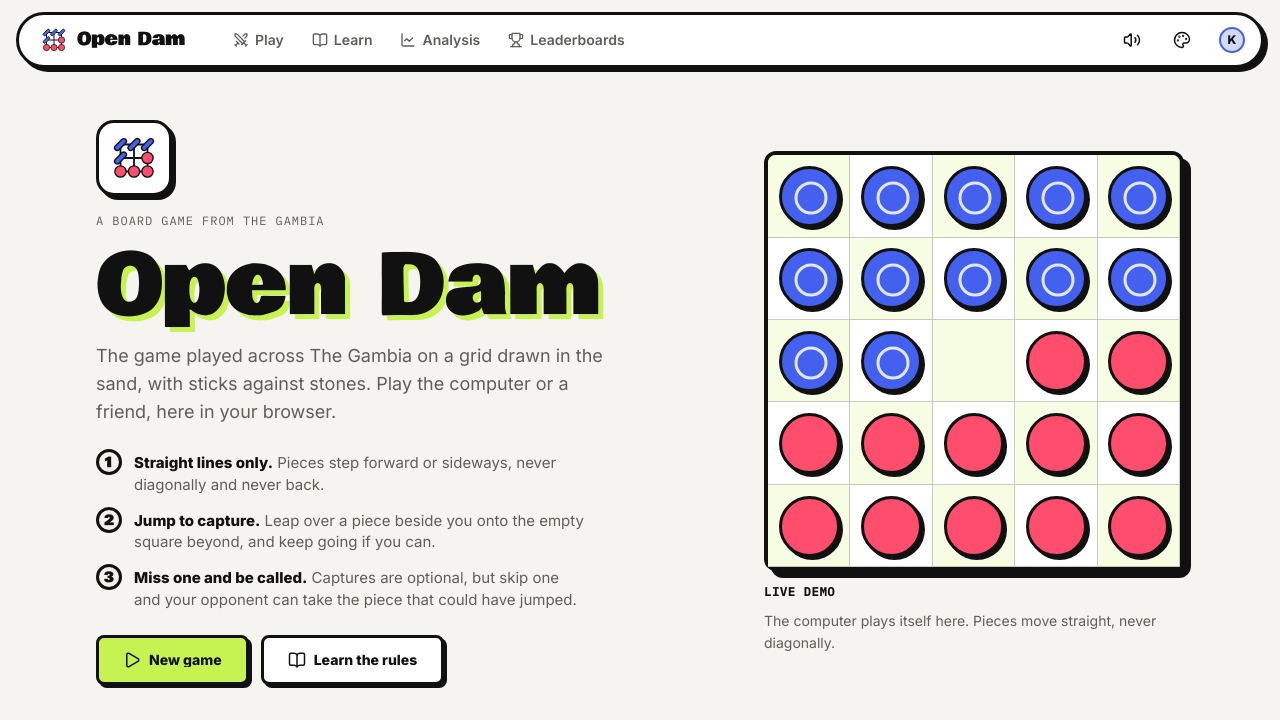
signing up and in › signing out from the account menu takes the account’s games and puzzles off the device
The image size is (1280, 720).
Click the button named "Account: Kylar" at (1232, 40), box left=1211, top=19, right=1253, bottom=61
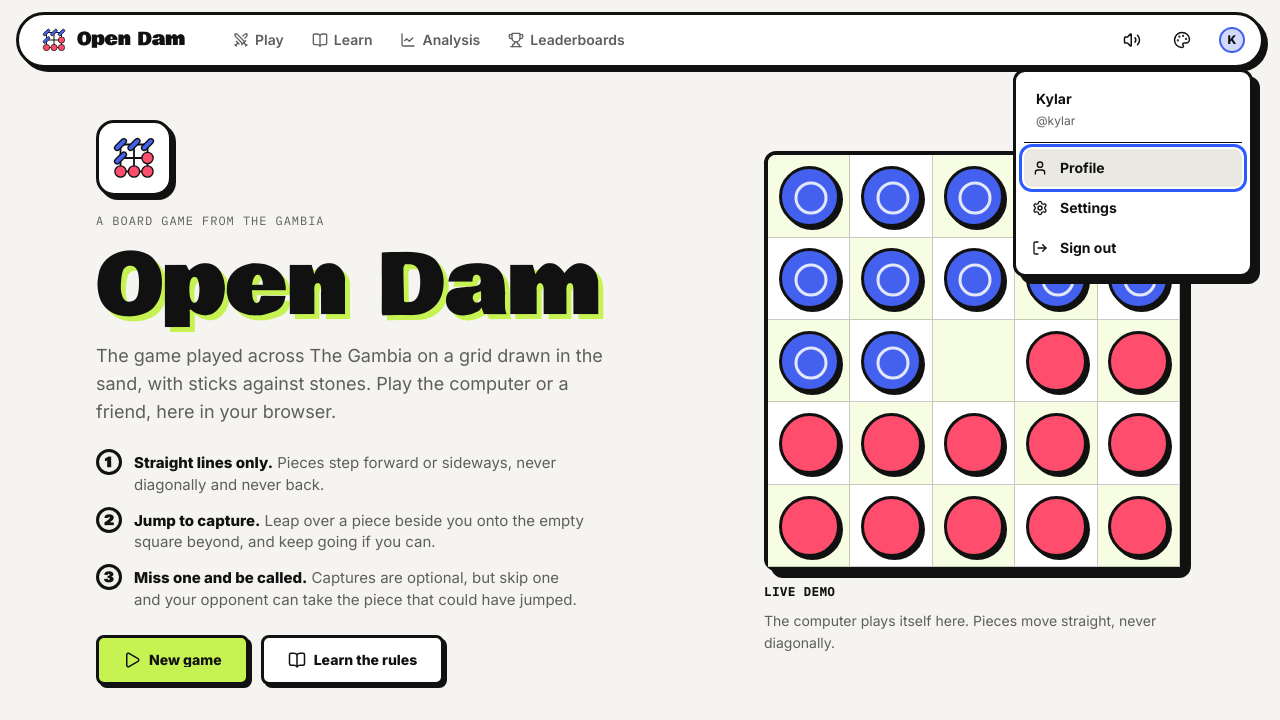
Click the menu item "Sign out" at (1133, 248), box left=1024, top=229, right=1242, bottom=266
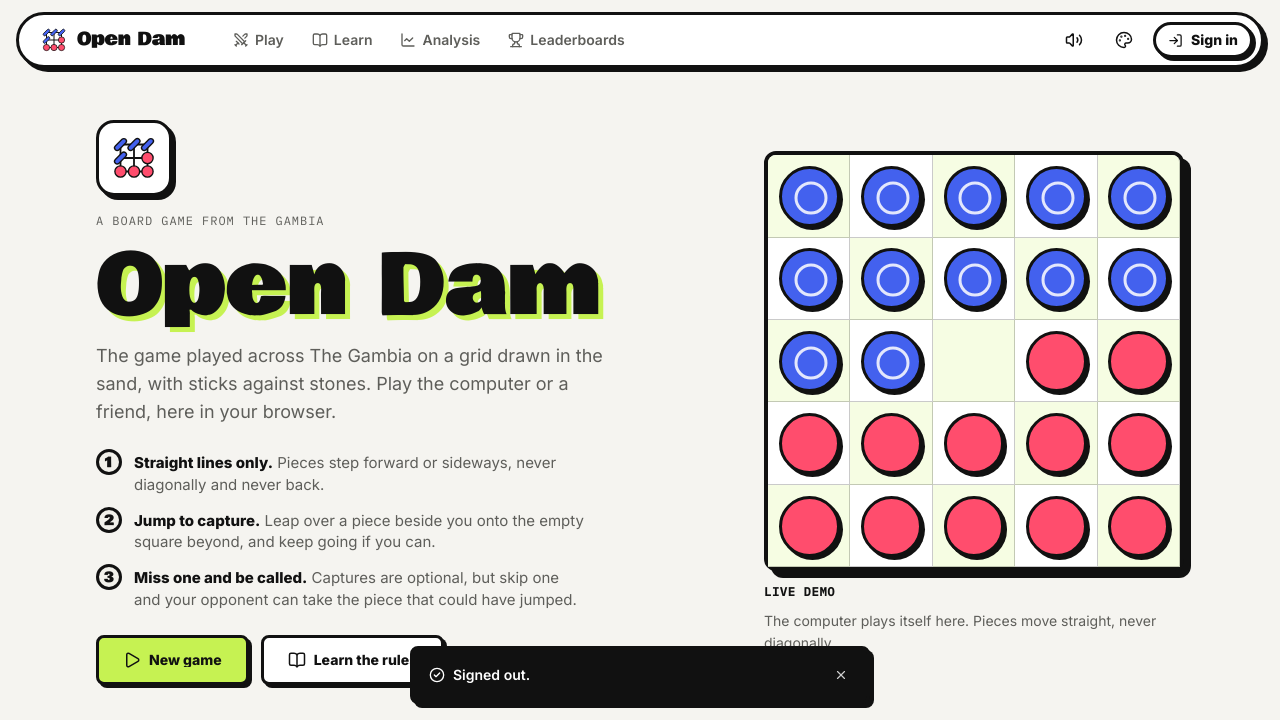
Expected: the link "Sign in" is shown, left=1153, top=22, right=1253, bottom=58
